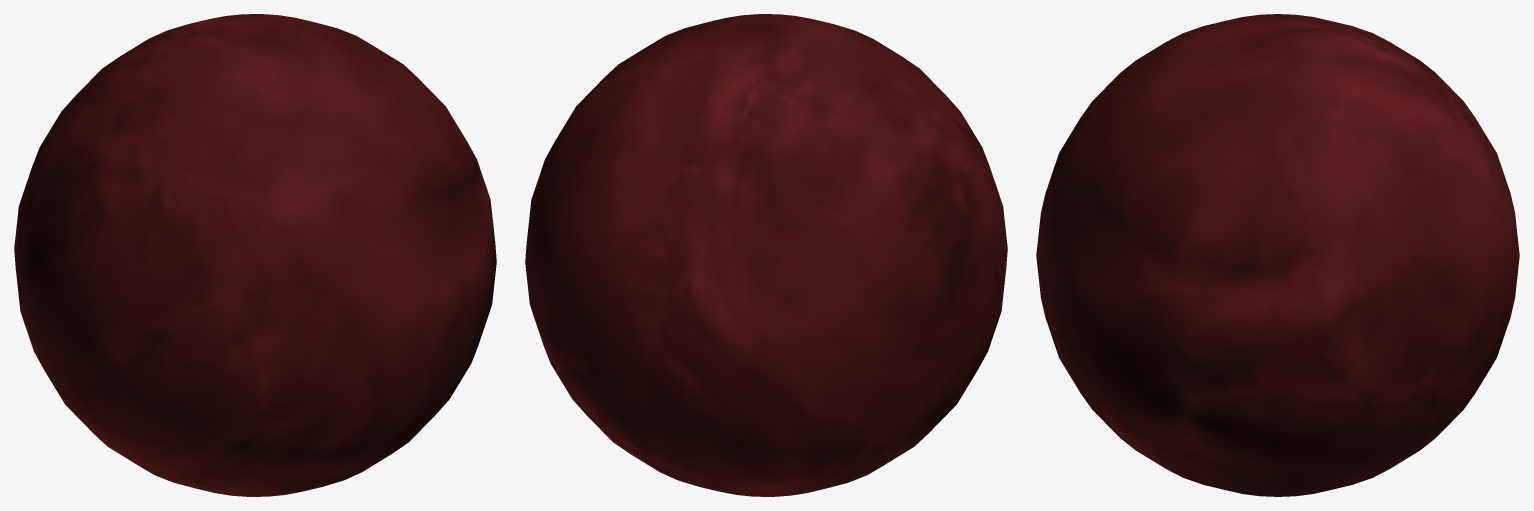
Rendered from Energie.obj.
3 renders of one model, left to right at view 1: azimuth 30°, elevation 25°; view 2: azimuth 150°, elevation 25°; view 3: azimuth 270°, elevation 25°, orthographic.
Visible parts, largest first — view 1: Kugel.2; view 2: Kugel.2; view 3: Kugel.2.
Boxes of the visible parts, x1,y1,x2,y2 form: Kugel.2: (14, 14, 496, 496); Kugel.2: (525, 14, 1007, 496); Kugel.2: (1036, 14, 1519, 496).
Size of the model in its own units: 200 by 200 by 200.
Materials: 1 (1 with a texture image).
